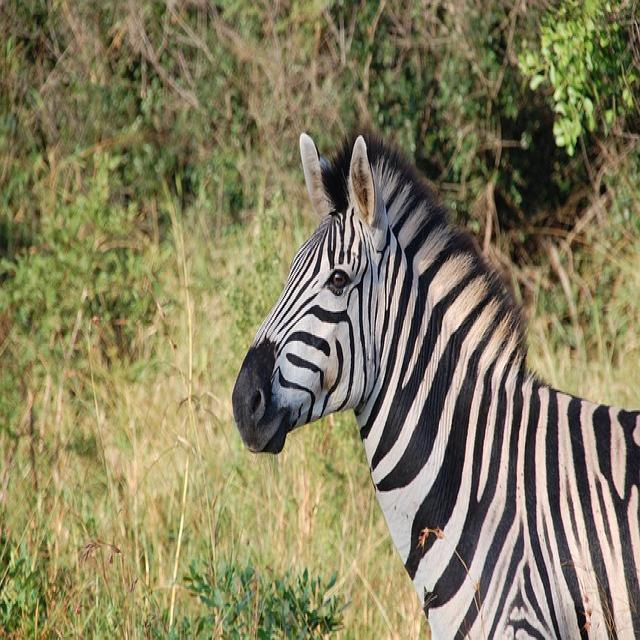Herbivorous: (230, 129, 640, 640)
